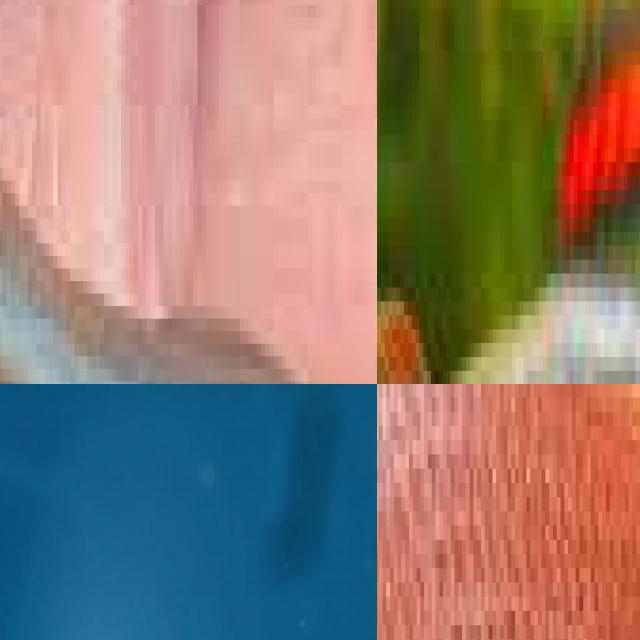fish: (0, 0, 377, 384), (377, 384, 640, 640), (377, 134, 640, 384)
